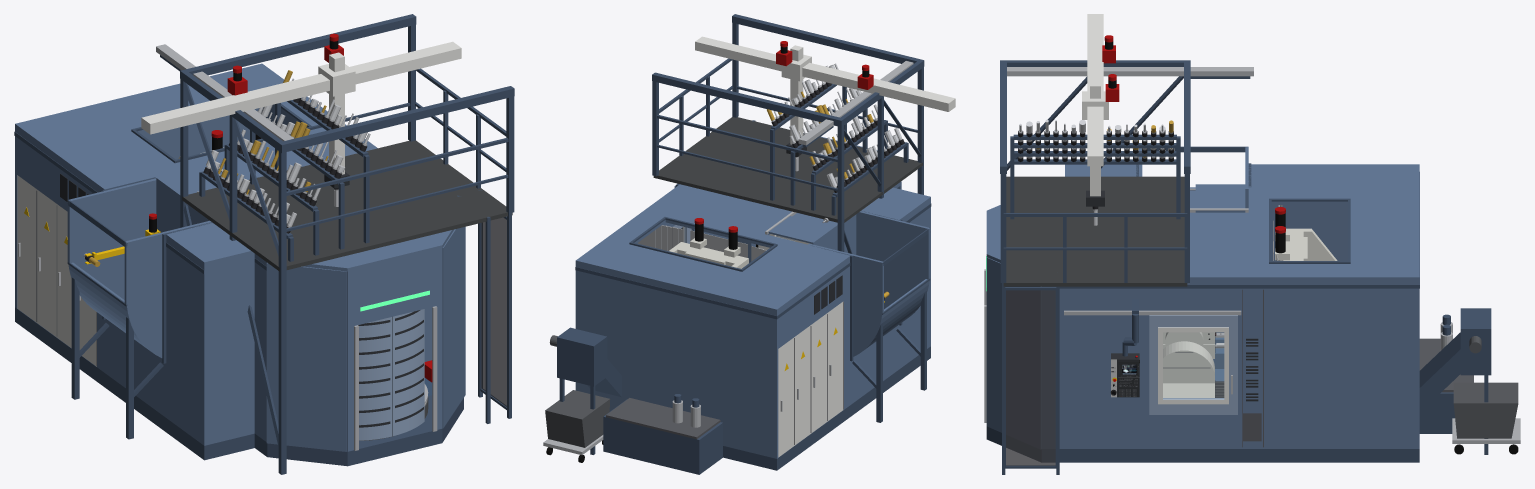
The model's file is hmc_x1200_5ax_blue_right_topmag.glb.
The picture shows the model from 3 angles, left to right: view 1: azimuth 30°, elevation 25°; view 2: azimuth 150°, elevation 25°; view 3: azimuth 270°, elevation 25°; orthographic projection. The views are drawn at different scales.
Parts seen in each view (by area): view 1: enclosure__fms_blue, apc_housing__fms_blue, tool_magazine_top__fms_blue_dk, tool_magazine_top__grating, tc_box__fms_blue, electrical_cabinet__hmc_white, tm_carriage__hmc_white, enclosure__fms_blue_dk, tool_magazine_top__mesh, apc_housing__fms_blue_dk, apc_door_left__door_blue, apc_door_right__door_blue (+12 smaller); view 2: enclosure__fms_blue, tool_magazine_top__fms_blue_dk, tool_magazine_top__grating, tc_box__fms_blue, chip_coolant__fms_blue_dk, electrical_cabinet__hmc_white, enclosure__fms_blue_dk, tm_carriage__hmc_white, chip_cart__steel_dark, chip_coolant__anthracite_lt, tc_box__fms_blue_dk, tool_magazine_top__tool_bright (+12 smaller); view 3: enclosure__fms_blue, tool_magazine_top__grating, tool_magazine_top__fms_blue_dk, apc_housing__fms_blue, tool_magazine_top__mesh, enclosure__fms_blue_dk, chip_coolant__fms_blue_dk, operator_door__glass_clear, operator_door__door_blue, chip_cart__steel_dark, table__struct_grey, tool_magazine_top__steel (+12 smaller).
Part boxes in pixels (x1,y1,x2,y2): enclosure__fms_blue: (15,63,432,445); apc_housing__fms_blue: (254,226,465,451); tool_magazine_top__fms_blue_dk: (160,14,514,474); tool_magazine_top__grating: (182,140,512,271); tc_box__fms_blue: (67,178,211,357); electrical_cabinet__hmc_white: (17,175,96,366); tm_carriage__hmc_white: (141,41,461,134); enclosure__fms_blue_dk: (14,104,311,460); tool_magazine_top__mesh: (481,217,506,406); apc_housing__fms_blue_dk: (254,258,463,466); apc_door_left__door_blue: (359,317,392,440); apc_door_right__door_blue: (392,309,424,435); enclosure__fms_blue: (575,184,930,458); tool_magazine_top__fms_blue_dk: (652,14,924,253); tool_magazine_top__grating: (653,117,922,222); tc_box__fms_blue: (810,211,930,356); chip_coolant__fms_blue_dk: (557,327,722,474); electrical_cabinet__hmc_white: (778,301,843,457); enclosure__fms_blue_dk: (575,203,931,470); tm_carriage__hmc_white: (695,36,955,111); chip_cart__steel_dark: (545,390,610,447); chip_coolant__anthracite_lt: (606,398,720,439); tc_box__fms_blue_dk: (852,227,930,422); tool_magazine_top__tool_bright: (774,63,901,187); enclosure__fms_blue: (1065,164,1419,448); tool_magazine_top__grating: (1003,176,1187,286); tool_magazine_top__fms_blue_dk: (1000,60,1250,474); apc_housing__fms_blue: (986,205,1064,448); tool_magazine_top__mesh: (1006,290,1055,465); enclosure__fms_blue_dk: (1065,163,1419,462); chip_coolant__fms_blue_dk: (1419,308,1491,454); operator_door__glass_clear: (1163,333,1223,398); operator_door__door_blue: (1149,315,1237,414); chip_cart__steel_dark: (1453,382,1518,438); table__struct_grey: (1163,332,1214,397); tool_magazine_top__steel: (1007,67,1253,158).
Size of the model in its own units: 5.14 by 5.58 by 7.86.
Materials: 24 (2 with a texture image).
